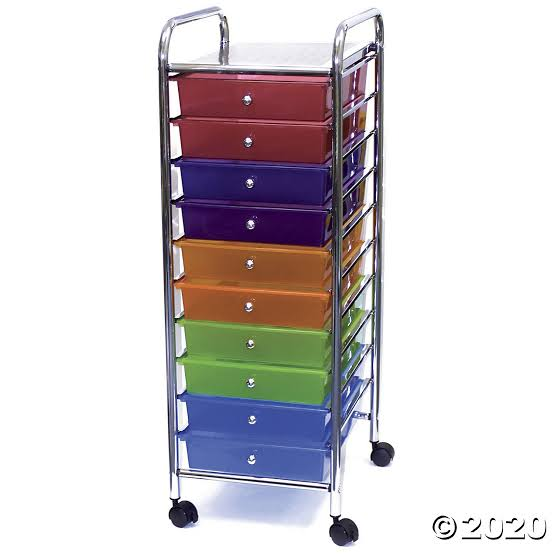Carts: (159, 5, 399, 545)
